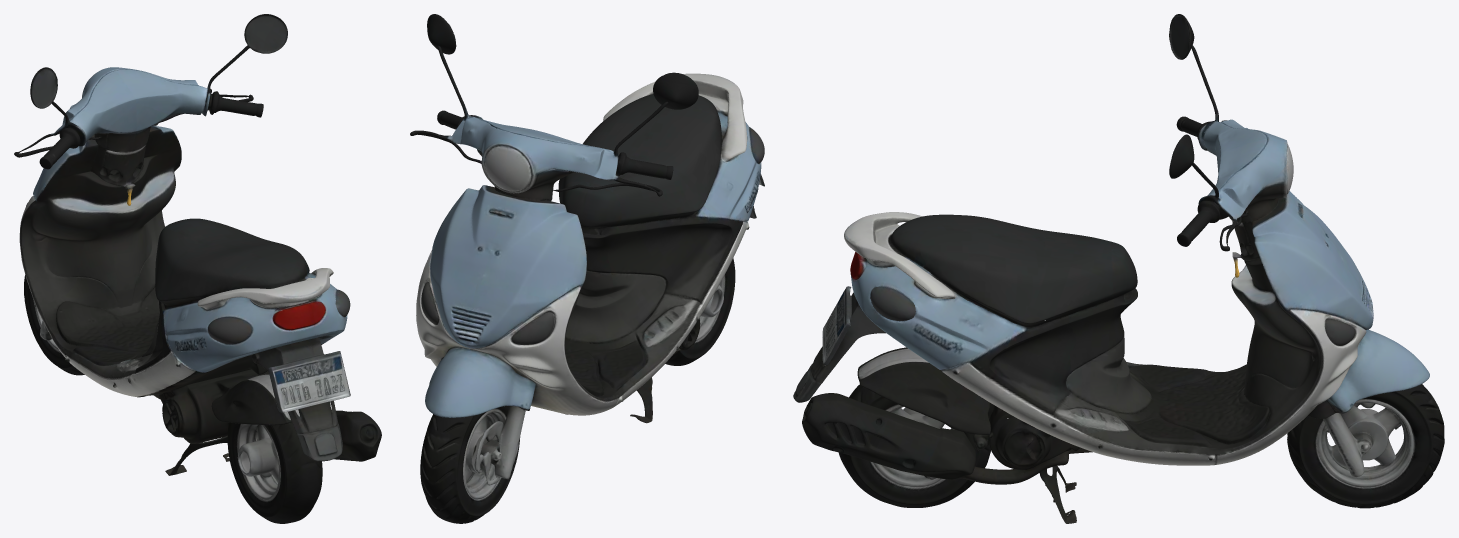
Rendered from blue scooter 3d model.compressed.glb.
3 views of the same model, side by side, from view 1: azimuth 30°, elevation 25°; view 2: azimuth 150°, elevation 25°; view 3: azimuth 270°, elevation 25° (orthographic). The views are drawn at different scales.
Visible parts, largest first — view 1: tripo_node_633d64b3-733b-484e-908b-2ec7ee28a9b1; view 2: tripo_node_633d64b3-733b-484e-908b-2ec7ee28a9b1; view 3: tripo_node_633d64b3-733b-484e-908b-2ec7ee28a9b1.
Boxes of the visible parts, <box> form: tripo_node_633d64b3-733b-484e-908b-2ec7ee28a9b1: <box>14,14,381,523</box>; tripo_node_633d64b3-733b-484e-908b-2ec7ee28a9b1: <box>410,14,764,523</box>; tripo_node_633d64b3-733b-484e-908b-2ec7ee28a9b1: <box>793,14,1444,523</box>.
Bounding box in the file's own units: 0.5029 × 0.727 × 0.9987.
1 material, 1 textured.
